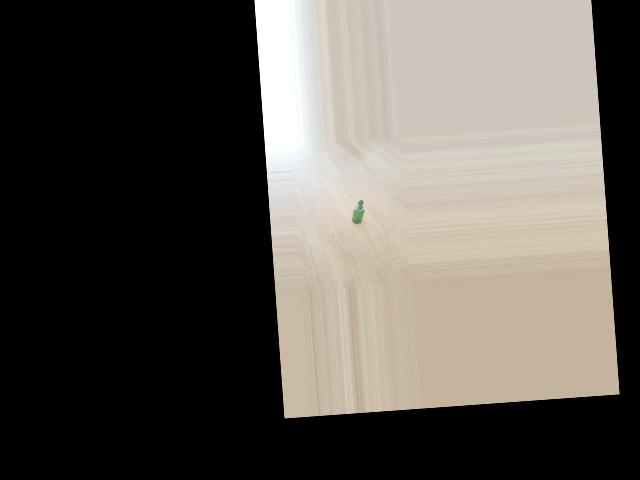beer: (350, 199, 365, 224)
